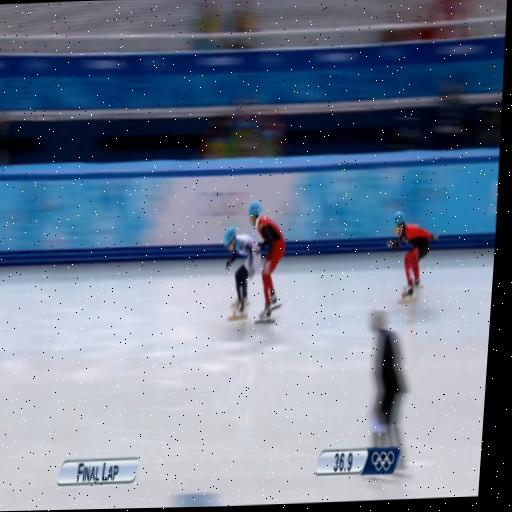Skater: (387, 211, 438, 302), (248, 202, 285, 322), (225, 226, 258, 320)
